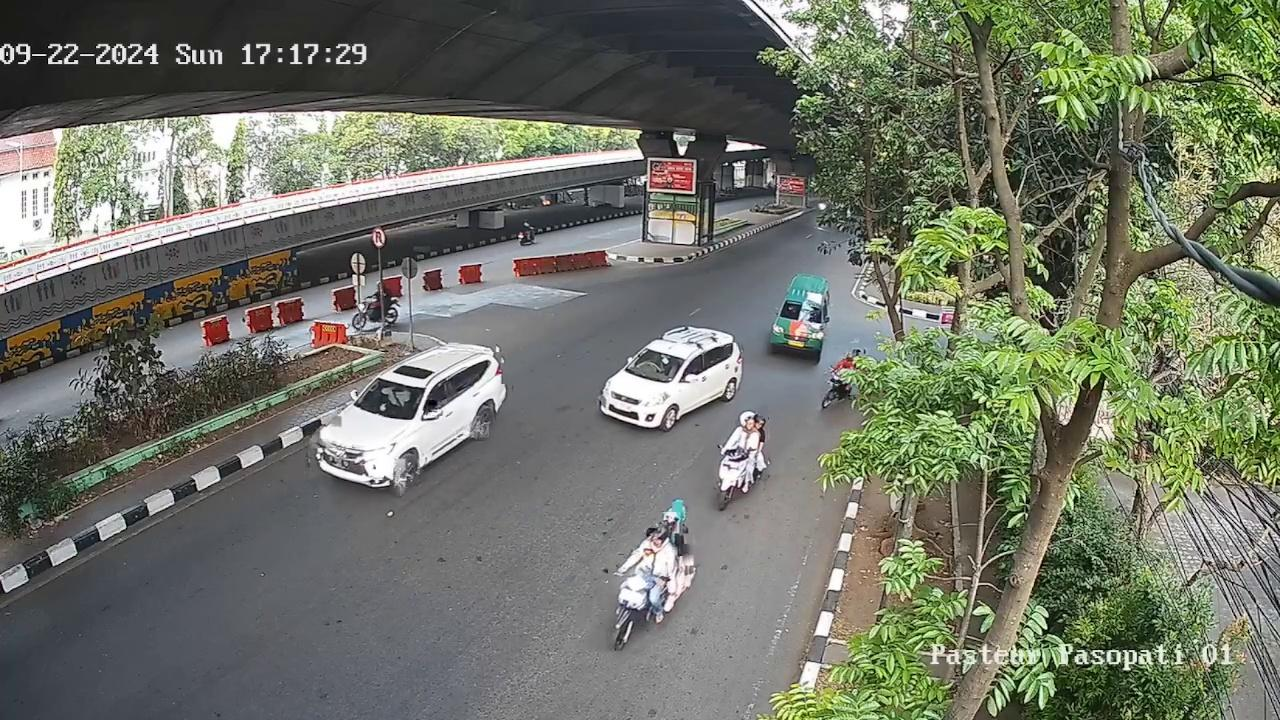pakai: (381, 385, 410, 408)
windshield: (356, 379, 428, 417), (626, 347, 681, 381), (782, 303, 822, 319)
